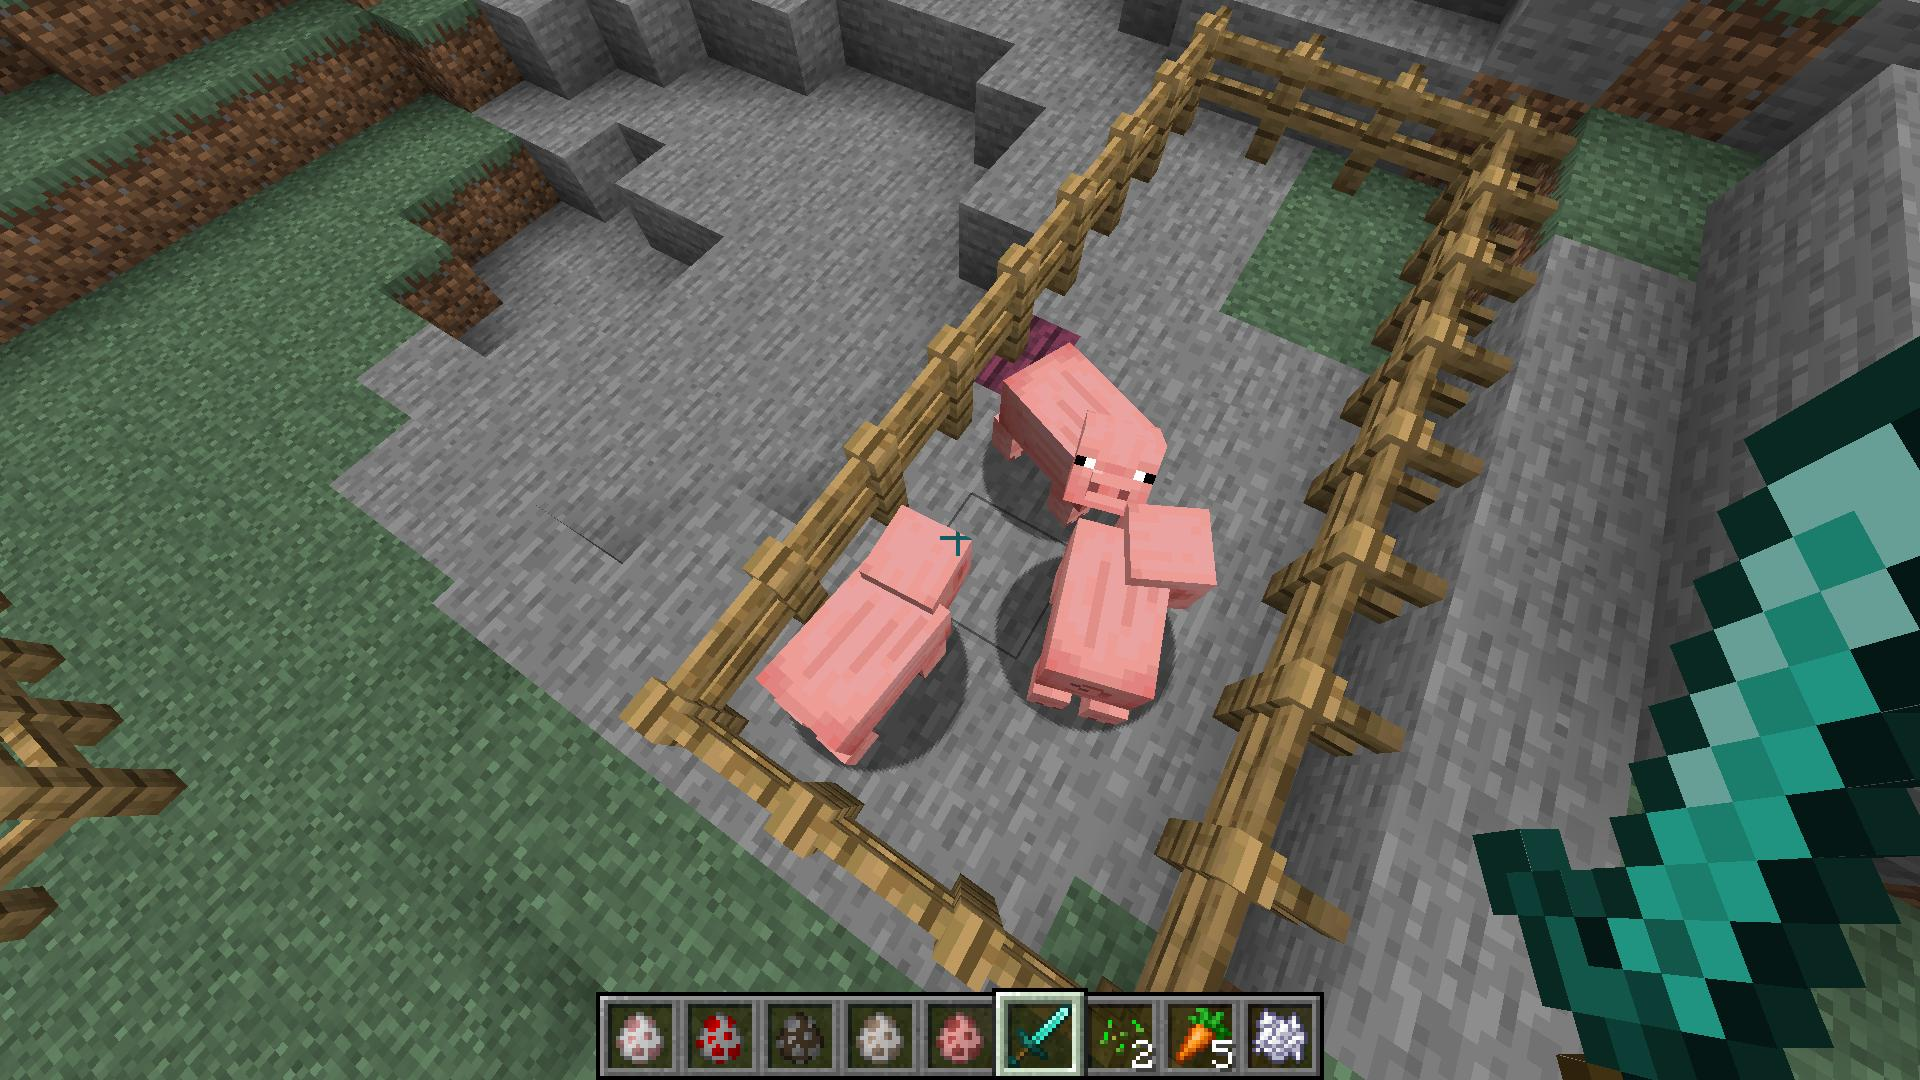pig: (742, 498, 978, 773), (1023, 495, 1224, 735), (984, 339, 1170, 522)
